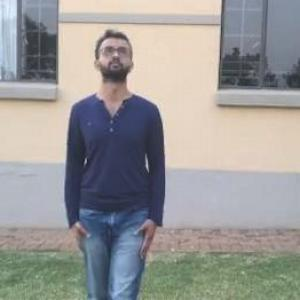follow: (58, 20, 170, 298)
